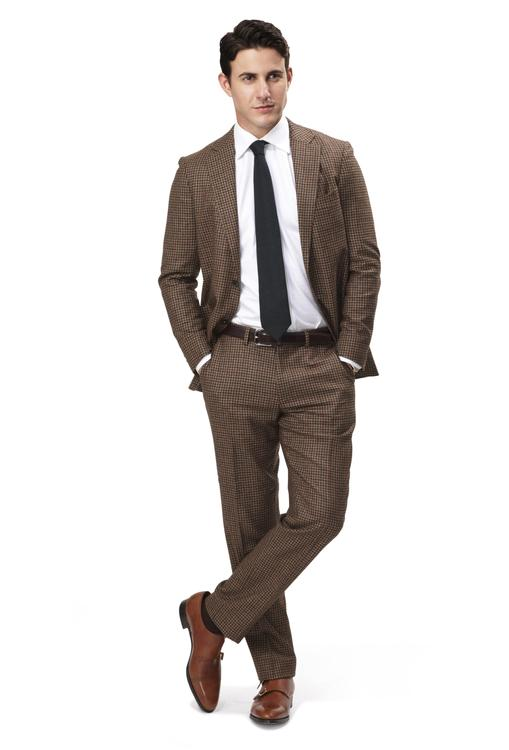F_M_suit jacket: (157, 113, 383, 400)
F_belt: (209, 319, 344, 365)
F_tie: (246, 138, 291, 337)
